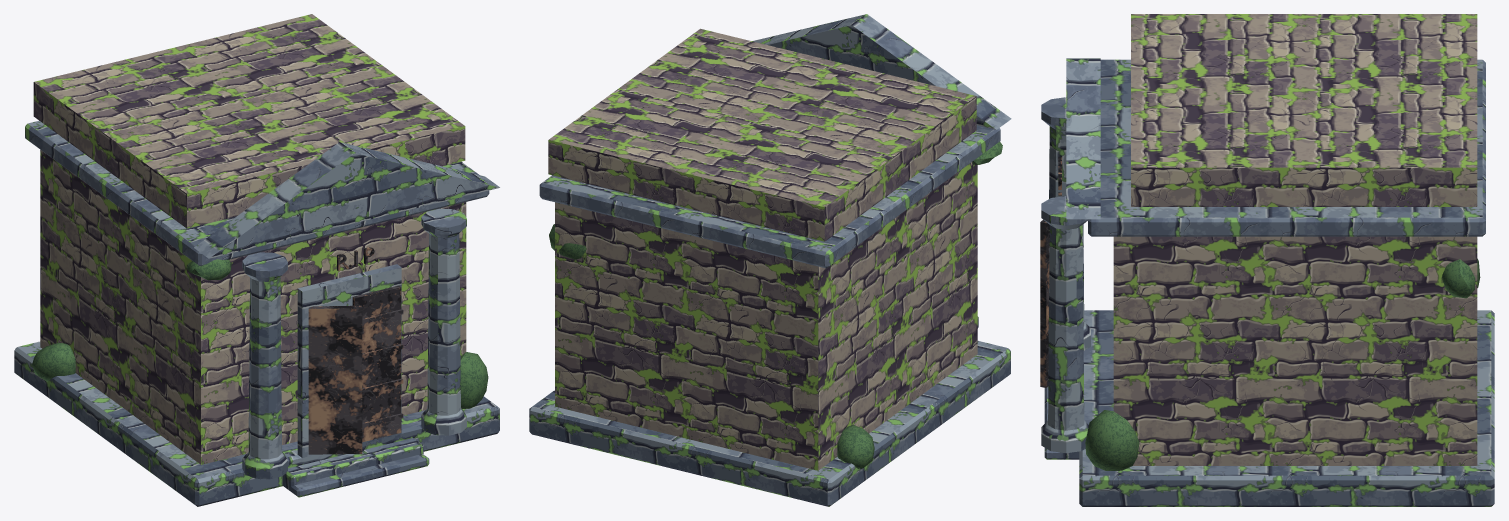
File: crypt.glb
The picture shows the model from 3 angles, left to right: view 1: azimuth 30°, elevation 25°; view 2: azimuth 150°, elevation 25°; view 3: azimuth 270°, elevation 25°; orthographic projection. The views are drawn at different scales.
Parts seen in each view (by area): view 1: Crypt; view 2: Crypt; view 3: Crypt.
Part boxes in pixels (x1,y1,x2,y2): Crypt: (14,14,499,506); Crypt: (529,14,1011,506); Crypt: (1040,14,1494,506).
Bounding box in the file's own units: 4.77 × 4.65 × 5.25.
4 materials, 4 textured.
